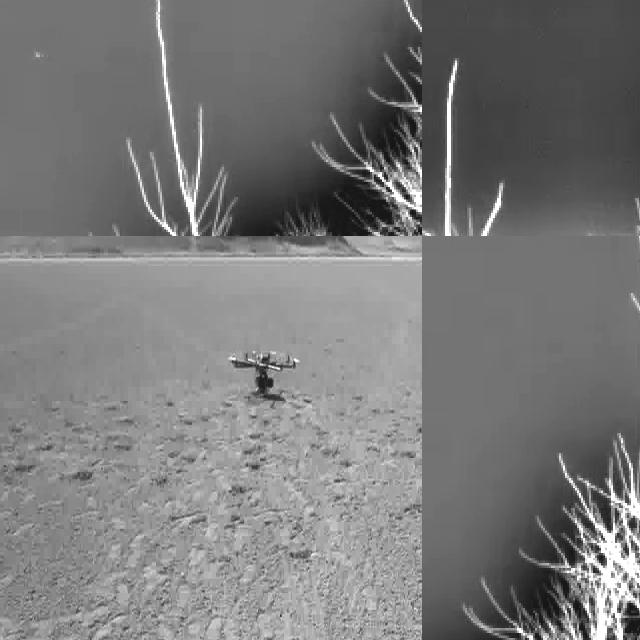0: (23, 40, 49, 74)
drone: (230, 346, 300, 392)
